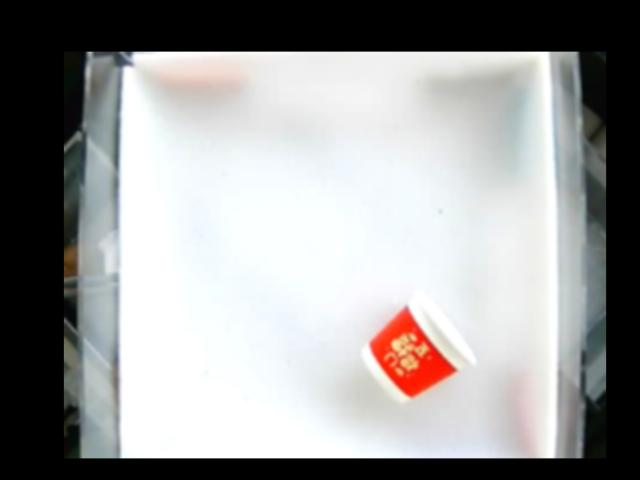Cup: (359, 288, 473, 404)
